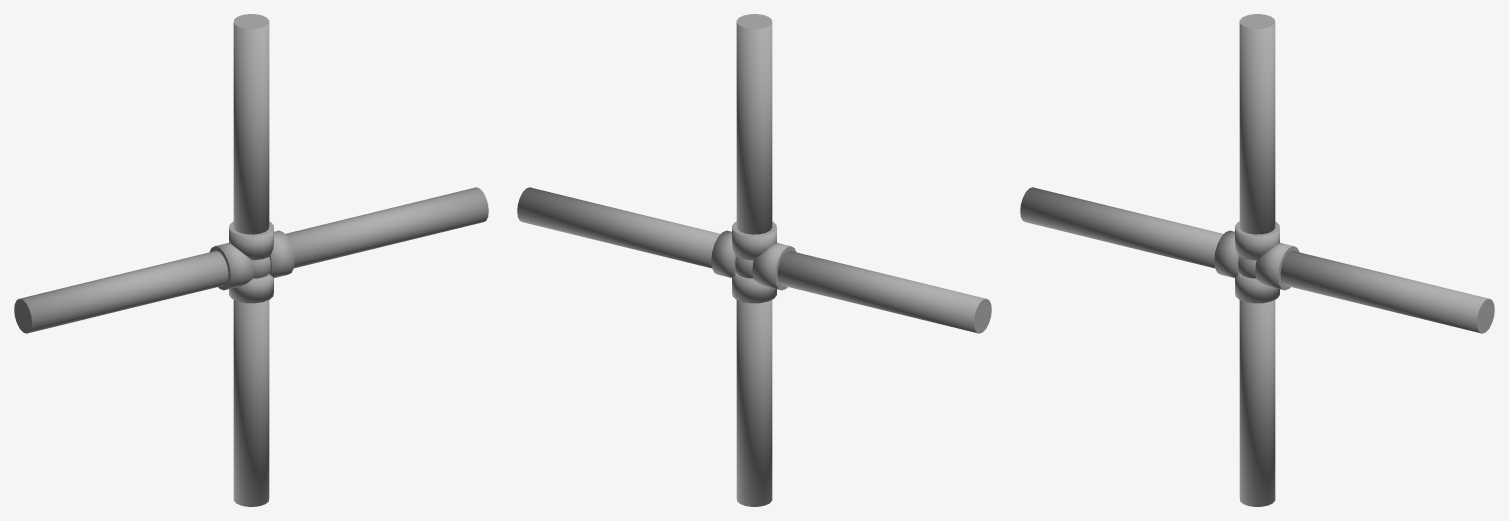
File: pipe_m15.obj
3 views of the same model, side by side, from view 1: azimuth 30°, elevation 25°; view 2: azimuth 150°, elevation 25°; view 3: azimuth 330°, elevation 25° (orthographic).
Visible parts, largest first — view 1: pipe4, pipe8, pipe1, pipe2, fitting_socket8, fitting_socket4, fitting_socket2, fitting_socket1; view 2: pipe4, pipe8, pipe1, pipe2, fitting_socket8, fitting_socket4, fitting_socket2, fitting_socket1; view 3: pipe4, pipe2, pipe1, pipe8, fitting_socket2, fitting_socket4, fitting_socket8, fitting_socket1.
Boxes of the visible parts, x1,y1,x2,y2 form: pipe4: (233,14,269,234); pipe8: (14,251,228,333); pipe1: (233,300,269,506); pipe2: (285,187,488,268); fitting_socket8: (209,243,253,290); fitting_socket4: (229,221,273,260); fitting_socket2: (269,230,294,277); fitting_socket1: (229,274,273,303); pipe4: (736,14,772,234); pipe8: (777,251,991,333); pipe1: (736,300,772,506); pipe2: (517,187,720,268); fitting_socket8: (752,243,796,290); fitting_socket4: (732,221,776,260); fitting_socket2: (711,230,736,277); fitting_socket1: (732,274,776,303); pipe4: (1239,14,1275,234); pipe2: (1280,251,1494,333); pipe1: (1239,300,1275,506); pipe8: (1020,187,1223,268); fitting_socket2: (1255,243,1299,290); fitting_socket4: (1235,221,1279,260); fitting_socket8: (1214,230,1239,277); fitting_socket1: (1235,274,1279,303).
Bounding box in the file's own units: 1 × 1 × 0.0878.
1 material, 1 textured.
